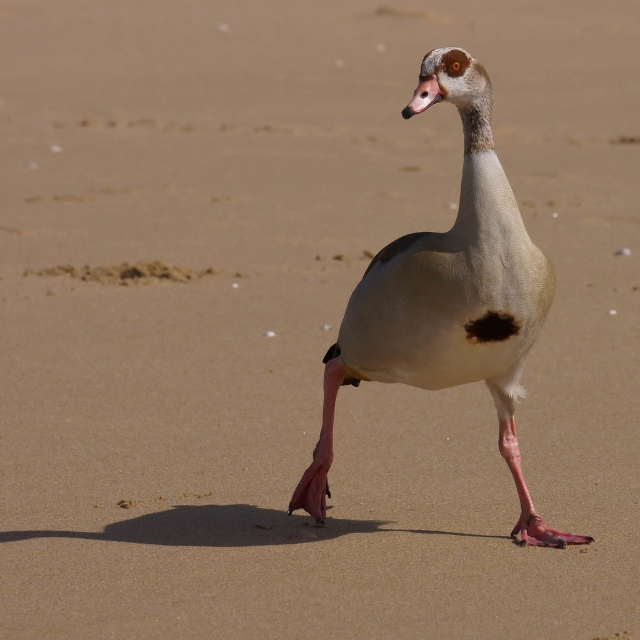Duck: (293, 34, 575, 580)
